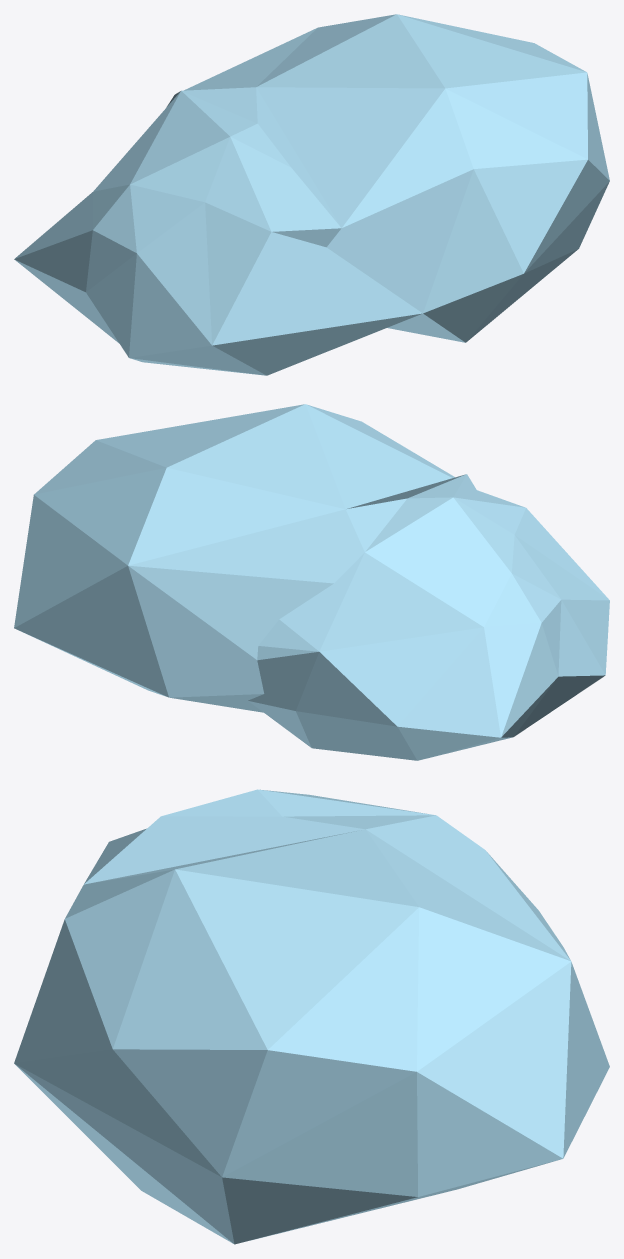
Rendered from treetopleaves_blue.glb.
3 views of the same model, one above another, from view 1: azimuth 30°, elevation 25°; view 2: azimuth 150°, elevation 25°; view 3: azimuth 270°, elevation 25° (orthographic). The views are drawn at different scales.
Visible parts, largest first — view 1: Cylinder; view 2: Cylinder; view 3: Cylinder.
Part boxes in pixels (x1,y1,x2,y2): Cylinder: [14, 14, 609, 375]; Cylinder: [14, 404, 609, 760]; Cylinder: [14, 789, 609, 1244].
Size of the model in its own units: 1.68 by 0.8055 by 1.35.
